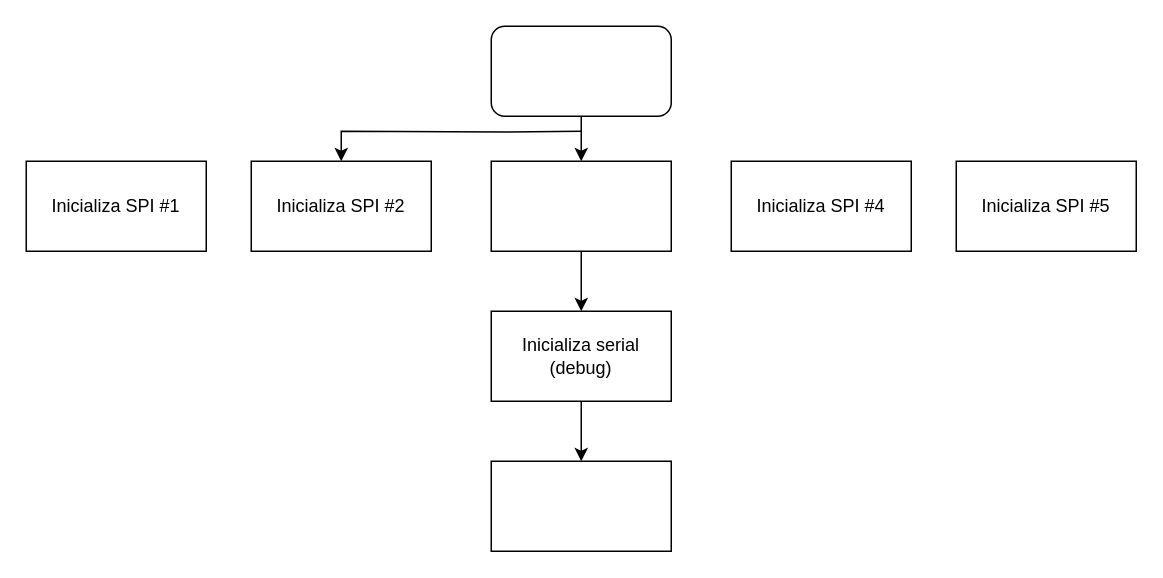
Image size: 1163x578. Some labels were removed from this diagram. Here are the shapes that lost their labels. From the top down, the box of each, then its label:
(490, 25, 671, 116): Início
(490, 160, 671, 251): Inicializa SPI #3
(490, 460, 671, 551): Inicializa Wi-fi
